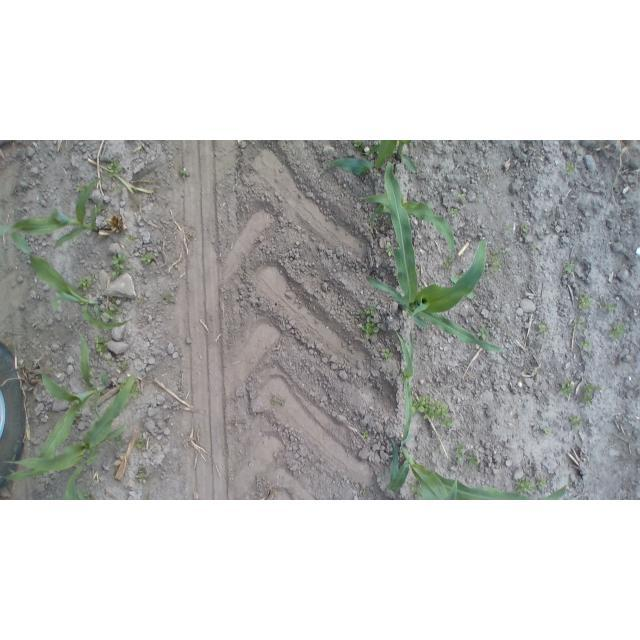Maize: (365, 162, 507, 358), (6, 374, 143, 500), (2, 227, 135, 332), (386, 432, 570, 500), (38, 323, 117, 463), (0, 174, 112, 247), (356, 189, 462, 263), (388, 325, 427, 448), (315, 140, 419, 181)
Weeds: (412, 395, 455, 430), (356, 305, 380, 338), (107, 254, 133, 279), (454, 445, 479, 468), (583, 381, 602, 407), (513, 476, 536, 496), (559, 377, 576, 400), (94, 335, 110, 359), (607, 320, 626, 340), (566, 412, 587, 430), (106, 158, 124, 177), (574, 291, 593, 309), (138, 247, 156, 265), (475, 325, 493, 342), (577, 339, 597, 354), (571, 316, 589, 332), (534, 321, 552, 337), (77, 275, 92, 294), (133, 469, 150, 485), (534, 475, 550, 491), (158, 293, 175, 308), (379, 345, 393, 363), (562, 161, 580, 175), (601, 299, 619, 313), (384, 244, 396, 263), (71, 181, 87, 195), (562, 259, 576, 275), (448, 274, 465, 286), (109, 298, 120, 316), (410, 482, 422, 498), (125, 234, 139, 247), (518, 222, 531, 236), (455, 193, 471, 204), (527, 241, 540, 254), (175, 165, 187, 179), (352, 140, 366, 152), (501, 222, 513, 236), (135, 437, 146, 450), (493, 260, 503, 274), (81, 489, 93, 500), (117, 361, 129, 372), (360, 429, 370, 441), (542, 425, 552, 437), (114, 184, 123, 196), (449, 207, 458, 219), (490, 249, 499, 261), (106, 357, 115, 367), (359, 487, 368, 497), (502, 245, 509, 256), (468, 292, 477, 300)
